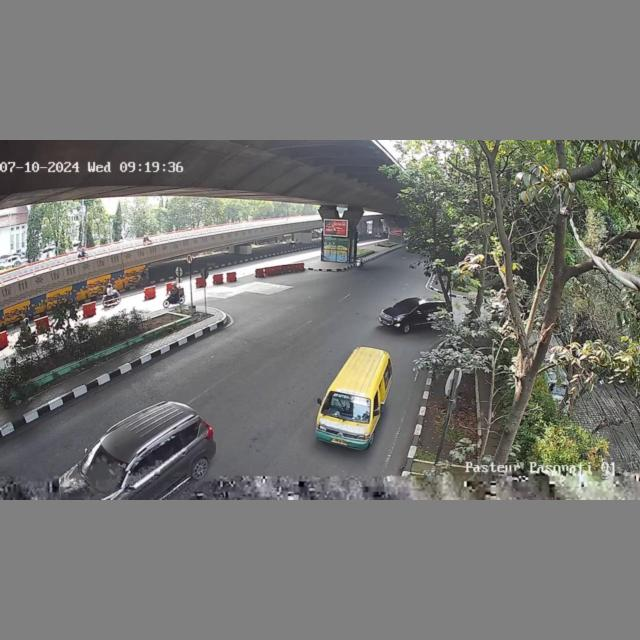windshield: (324, 389, 371, 425)
